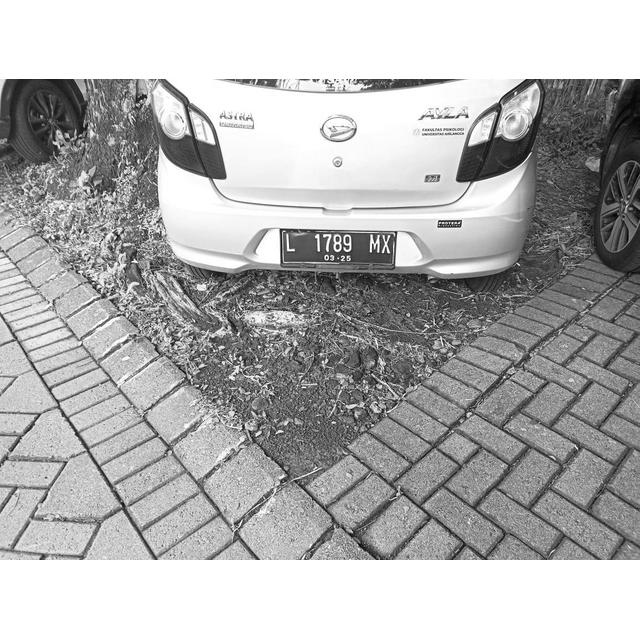license: (284, 231, 392, 263)
